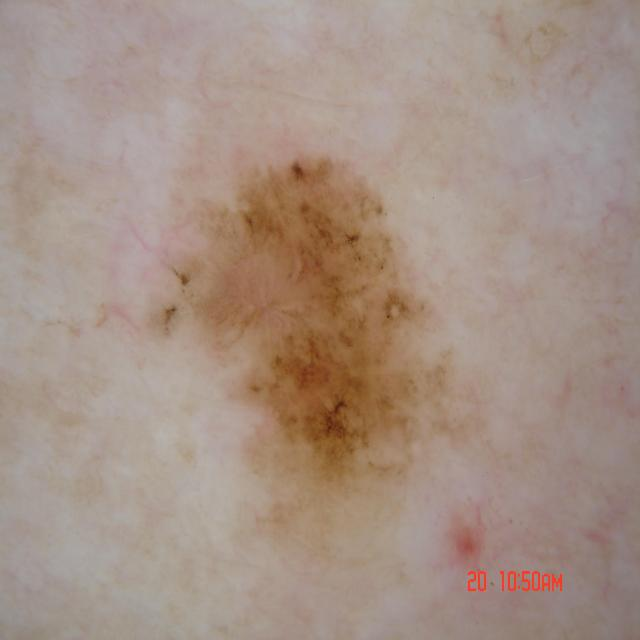Skin-Cancer Melanoma: (118, 96, 521, 523)
